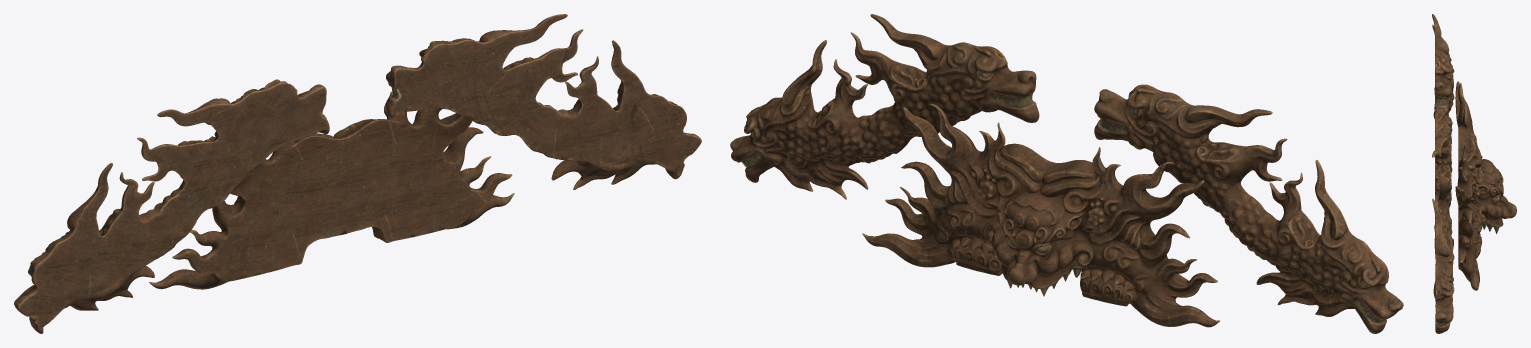
The model's file is SM_Fence_Dragon.fbx.
3 views of the same model, side by side, from view 1: azimuth 30°, elevation 25°; view 2: azimuth 150°, elevation 25°; view 3: azimuth 270°, elevation 25° (orthographic). The views are drawn at different scales.
Parts seen in each view (by area): view 1: SM_Fence_Dragon_LOD0; view 2: SM_Fence_Dragon_LOD0; view 3: SM_Fence_Dragon_LOD0.
Boxes of the visible parts, box(x1,y1,x2,y2) form: SM_Fence_Dragon_LOD0: box(14, 14, 701, 333); SM_Fence_Dragon_LOD0: box(730, 14, 1403, 333); SM_Fence_Dragon_LOD0: box(1432, 14, 1516, 333).
Bounding box in the file's own units: 637 × 96.36 × 192.
